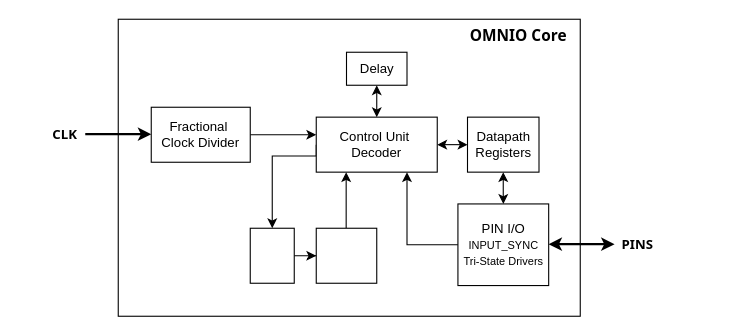
Some shapes in this 729 by 336 pixel diagram are drawn without their labels. The centre of each missing label's shape, as x and y in pixels:
"Memory" goes at (x=346, y=255).
"PC" goes at (x=271, y=255).
